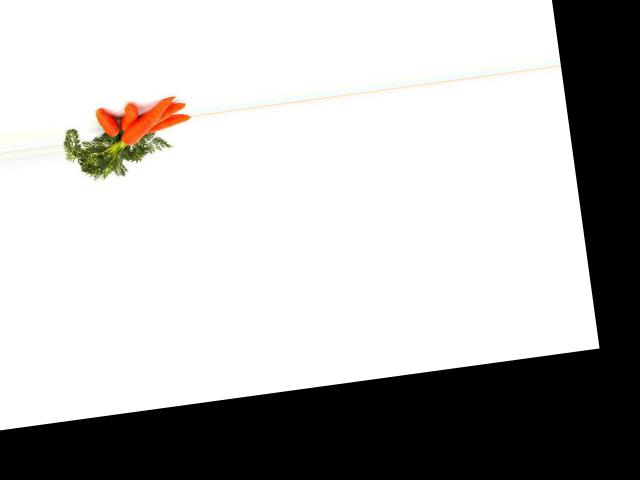carrot: (108, 93, 179, 152)
